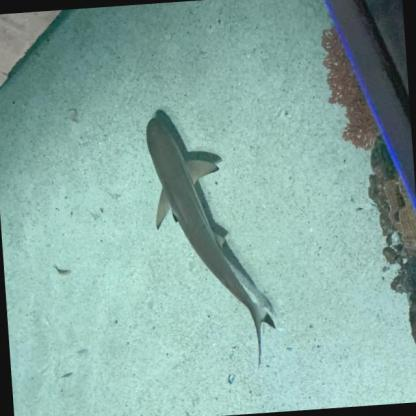shark: (144, 108, 278, 377)
